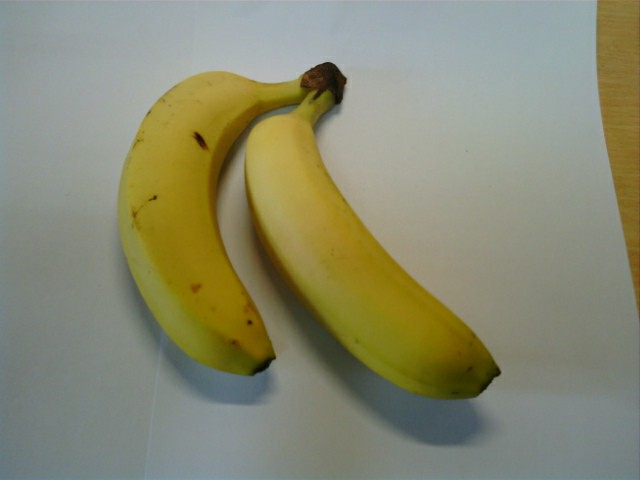fresh_banana: (248, 113, 499, 398)
normal_banana: (122, 66, 281, 379)
